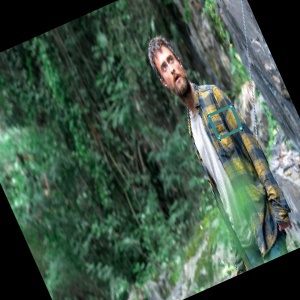square: (206, 104, 245, 141)
